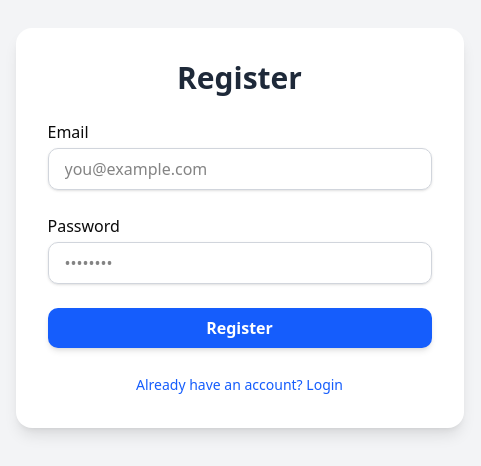
Test: Register - Email and Password Validation (Formik + Yup) › Password Validation › should show error when password is too short
Step 1. Type "aaaa@gmail.com" into the field named "email" → (240, 169), box [48,148,432,190]
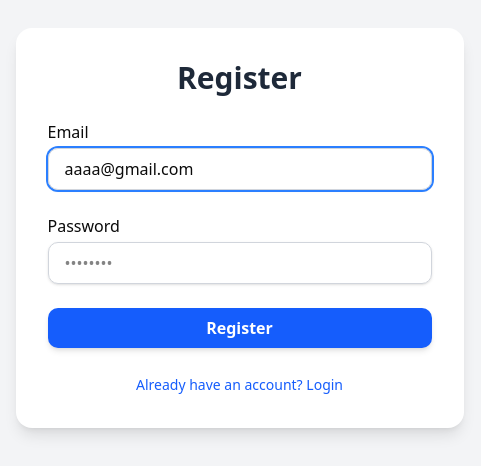
Step 2. Type "Aa1_" into the password field named "password" → (240, 263), box [48,242,432,284]
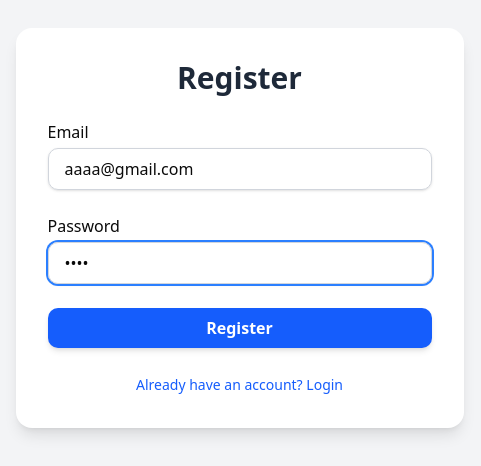
Step 3. Click the submit button → (240, 328), box [48,308,432,348]
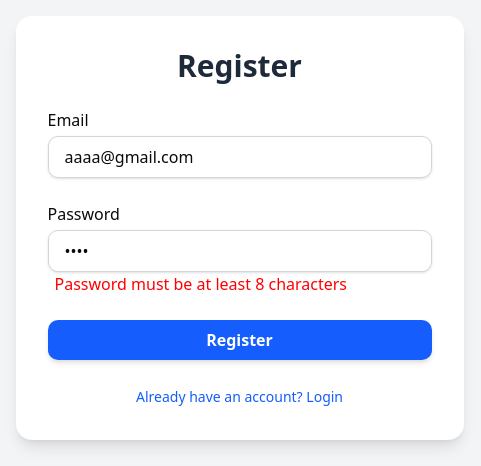
Expected: the heading named "error-password" reads "Password must be at least 8 characters", [55,273,348,295]
